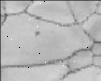good_void: (34, 29, 40, 36)
